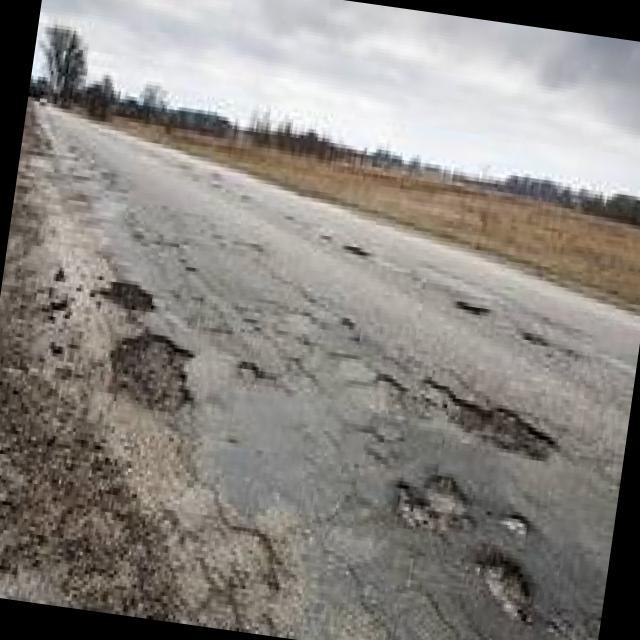Pothole: (418, 383, 563, 472), (104, 319, 200, 418), (392, 466, 474, 538), (476, 539, 538, 634), (86, 266, 172, 324), (450, 292, 496, 326), (342, 240, 369, 262)
